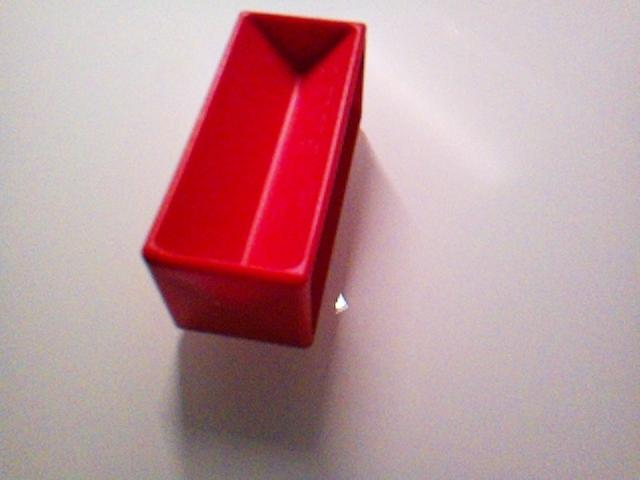red: (141, 10, 368, 349)
